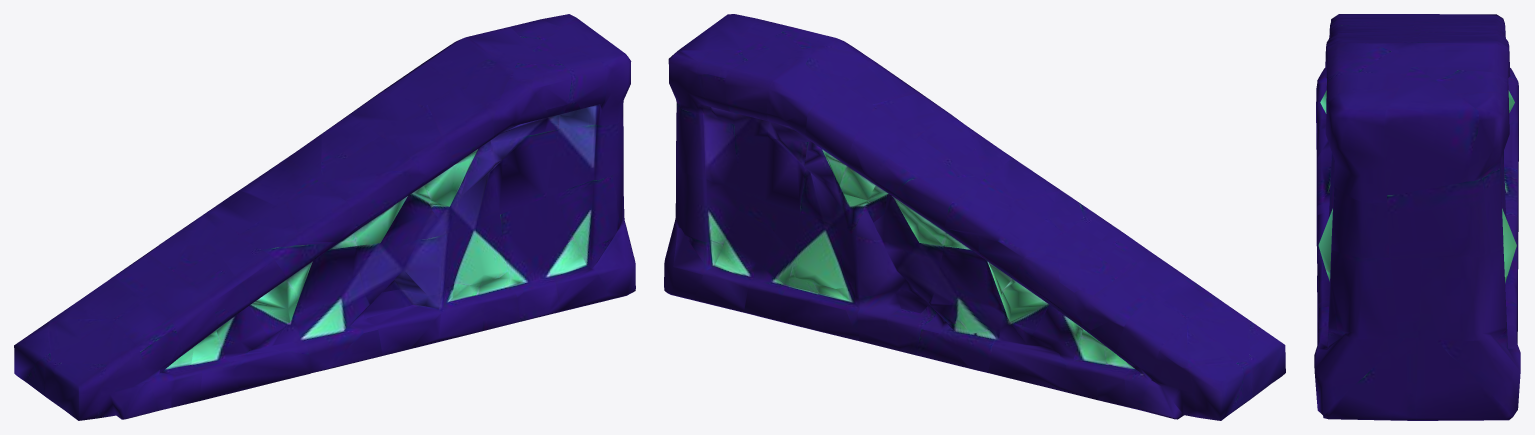
File: ramp.glb
The picture shows the model from 3 angles, left to right: view 1: azimuth 30°, elevation 25°; view 2: azimuth 150°, elevation 25°; view 3: azimuth 270°, elevation 25°; orthographic projection. The views are drawn at different scales.
Visible parts, largest first — view 1: mesh_node; view 2: mesh_node; view 3: mesh_node.
Part boxes in pixels (left/top/right/bottom): mesh_node: left=14, top=14, right=635, bottom=420; mesh_node: left=664, top=14, right=1285, bottom=420; mesh_node: left=1314, top=14, right=1520, bottom=420.
Bounding box in the file's own units: 1.9 × 0.7663 × 0.4613.
1 material, 1 textured.
